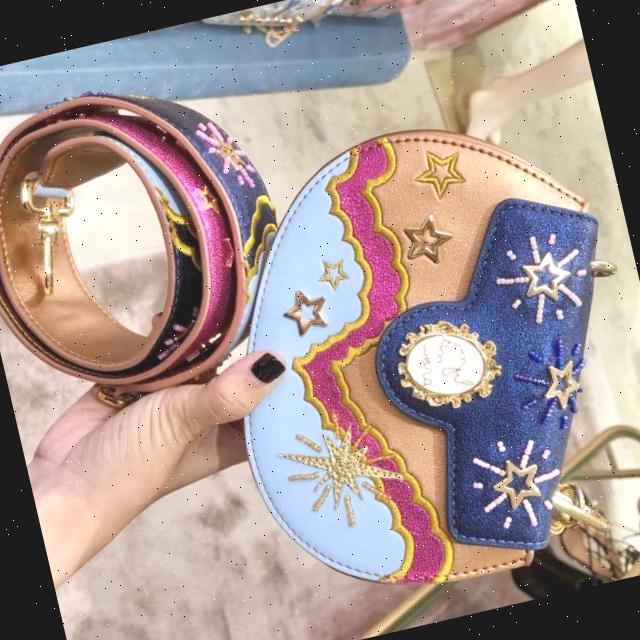Handbag: (170, 86, 640, 621)
